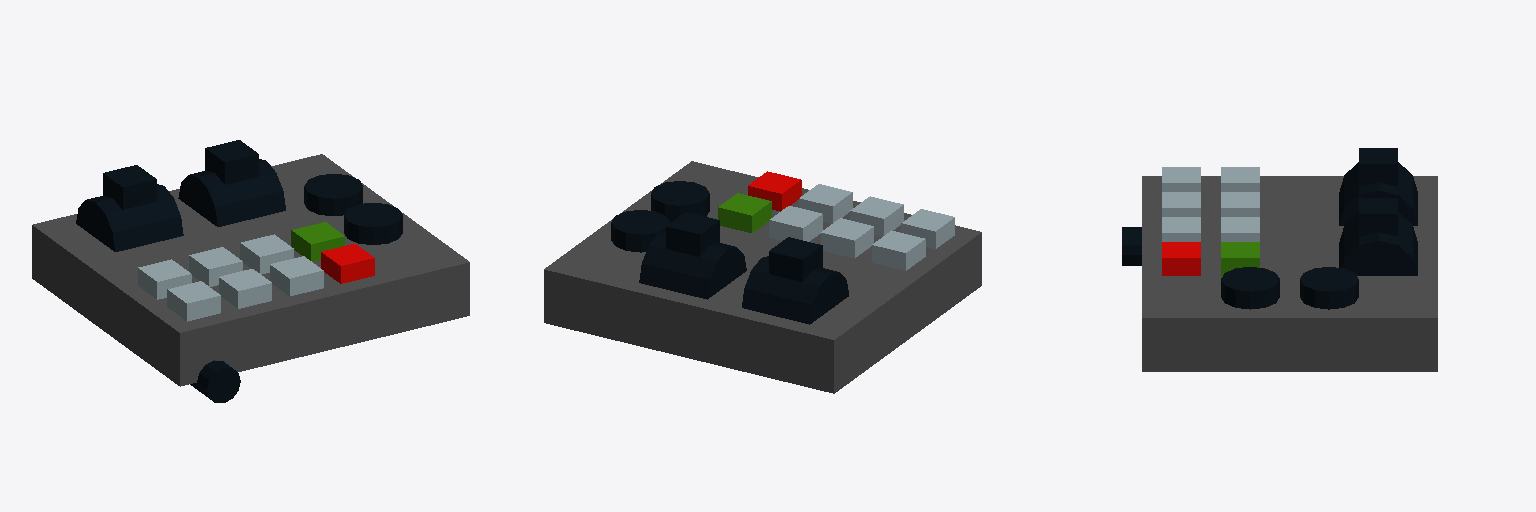
3 renders of one model, left to right at view 1: azimuth 30°, elevation 25°; view 2: azimuth 150°, elevation 25°; view 3: azimuth 270°, elevation 25°, orthographic.
Parts seen in each view (by area): view 1: group[number redacted], group[number redacted], group[number redacted], group[number redacted], group[number redacted], group[number redacted]; view 2: group[number redacted], group[number redacted], group[number redacted], group[number redacted], group[number redacted]; view 3: group[number redacted], group[number redacted], group[number redacted], group[number redacted], group[number redacted], group[number redacted].
Boxes of the visible parts, <box> form: group[number redacted]: <box>32,154,469,386</box>; group[number redacted]: <box>178,140,285,226</box>; group[number redacted]: <box>76,165,183,251</box>; group[number redacted]: <box>344,203,402,244</box>; group[number redacted]: <box>304,174,362,215</box>; group[number redacted]: <box>190,360,240,402</box>; group[number redacted]: <box>544,161,981,393</box>; group[number redacted]: <box>742,237,848,324</box>; group[number redacted]: <box>639,212,746,299</box>; group[number redacted]: <box>611,210,669,252</box>; group[number redacted]: <box>651,181,709,222</box>; group[number redacted]: <box>1142,167,1437,371</box>; group[number redacted]: <box>1339,198,1417,275</box>; group[number redacted]: <box>1339,148,1417,225</box>; group[number redacted]: <box>1300,267,1358,309</box>; group[number redacted]: <box>1221,267,1279,309</box>; group[number redacted]: <box>1122,227,1141,265</box>.
Size of the model in its own units: 0.17 by 0.07 by 0.16.